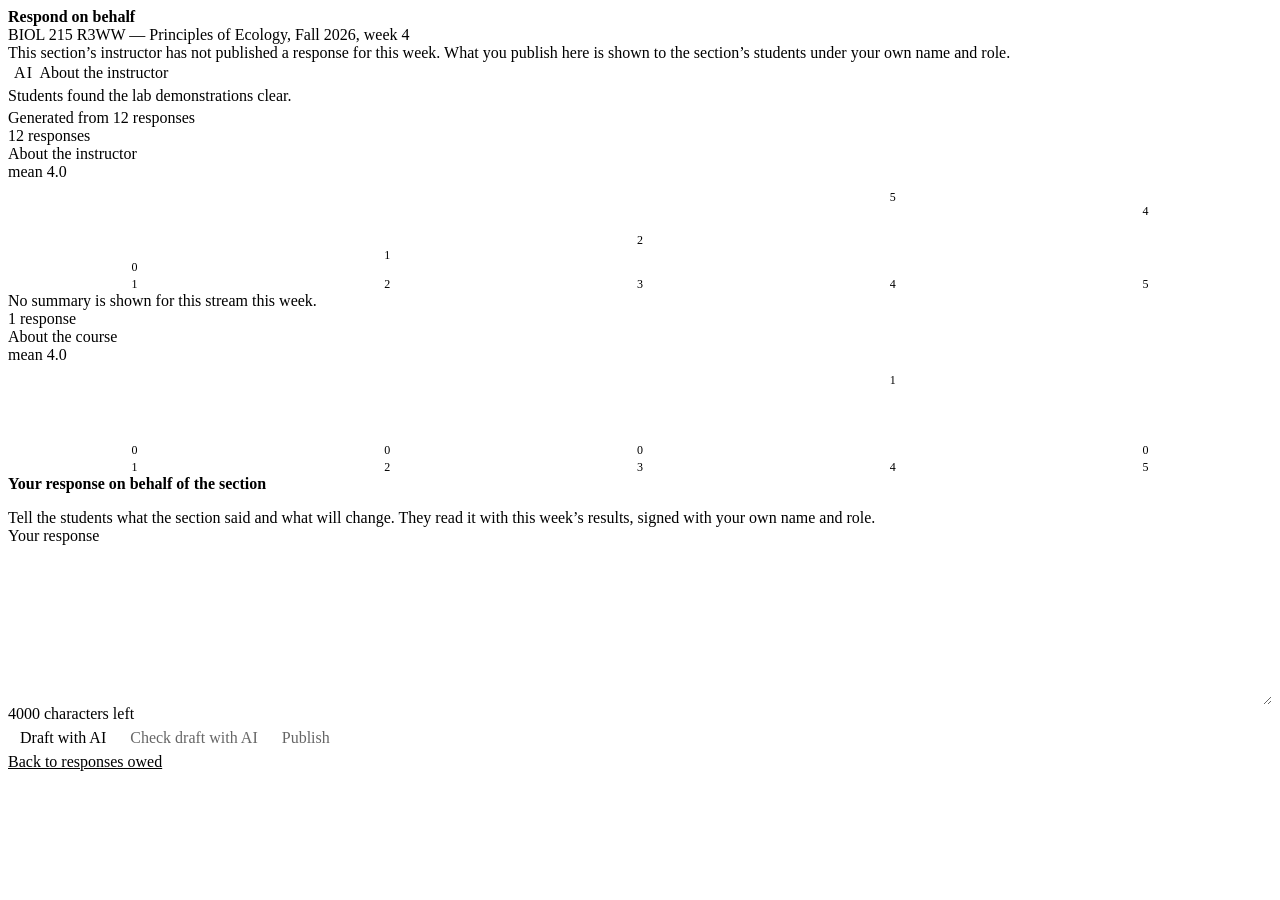
responding on behalf › draws the draft and the check from the on-behalf doors
Click the button "Draft with AI": x=63, y=738 [8,723,118,753]
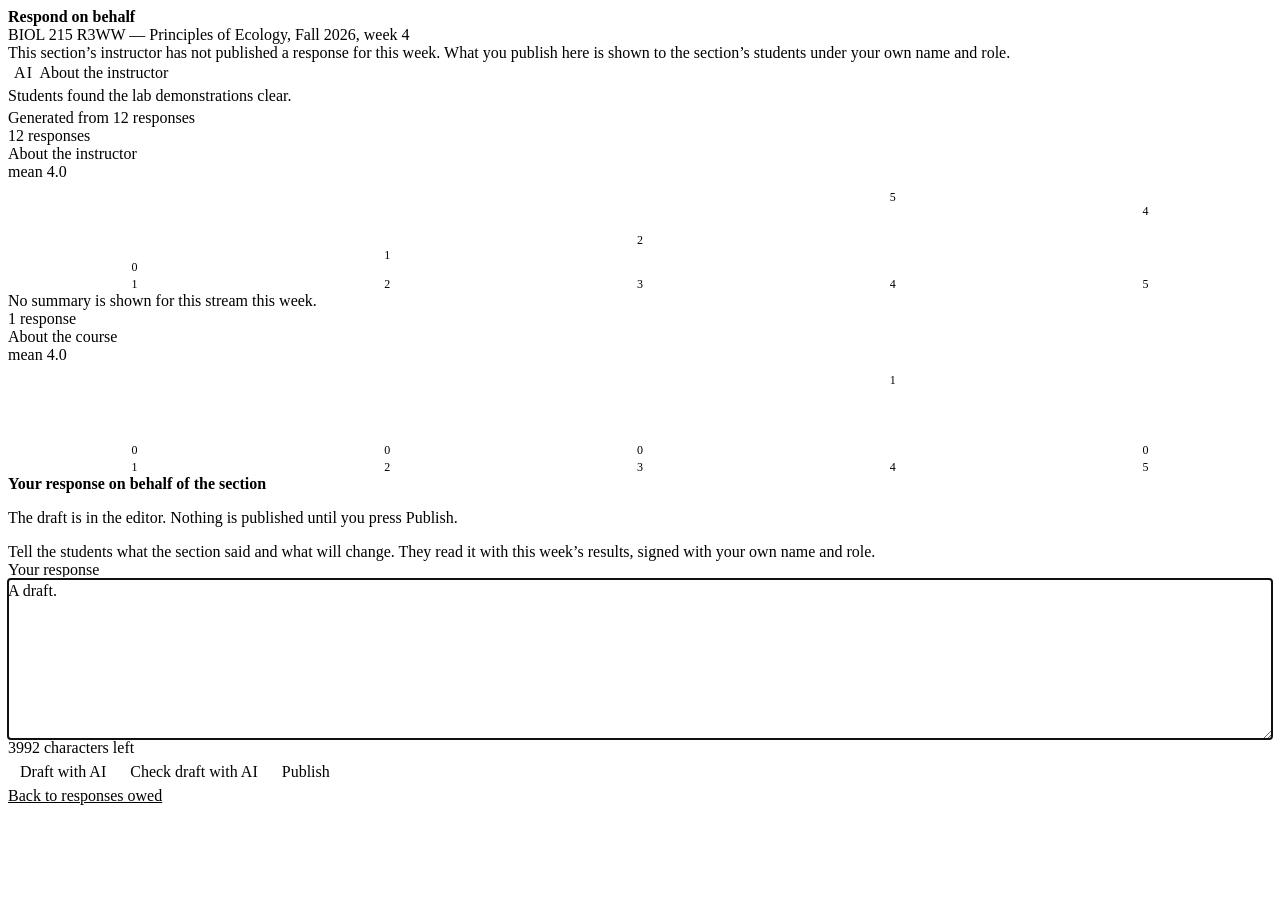
Expected: the text box holds "A draft.", [8,579,1272,739]
Click the button "Check draft with AI": x=194, y=772 [118,757,270,787]
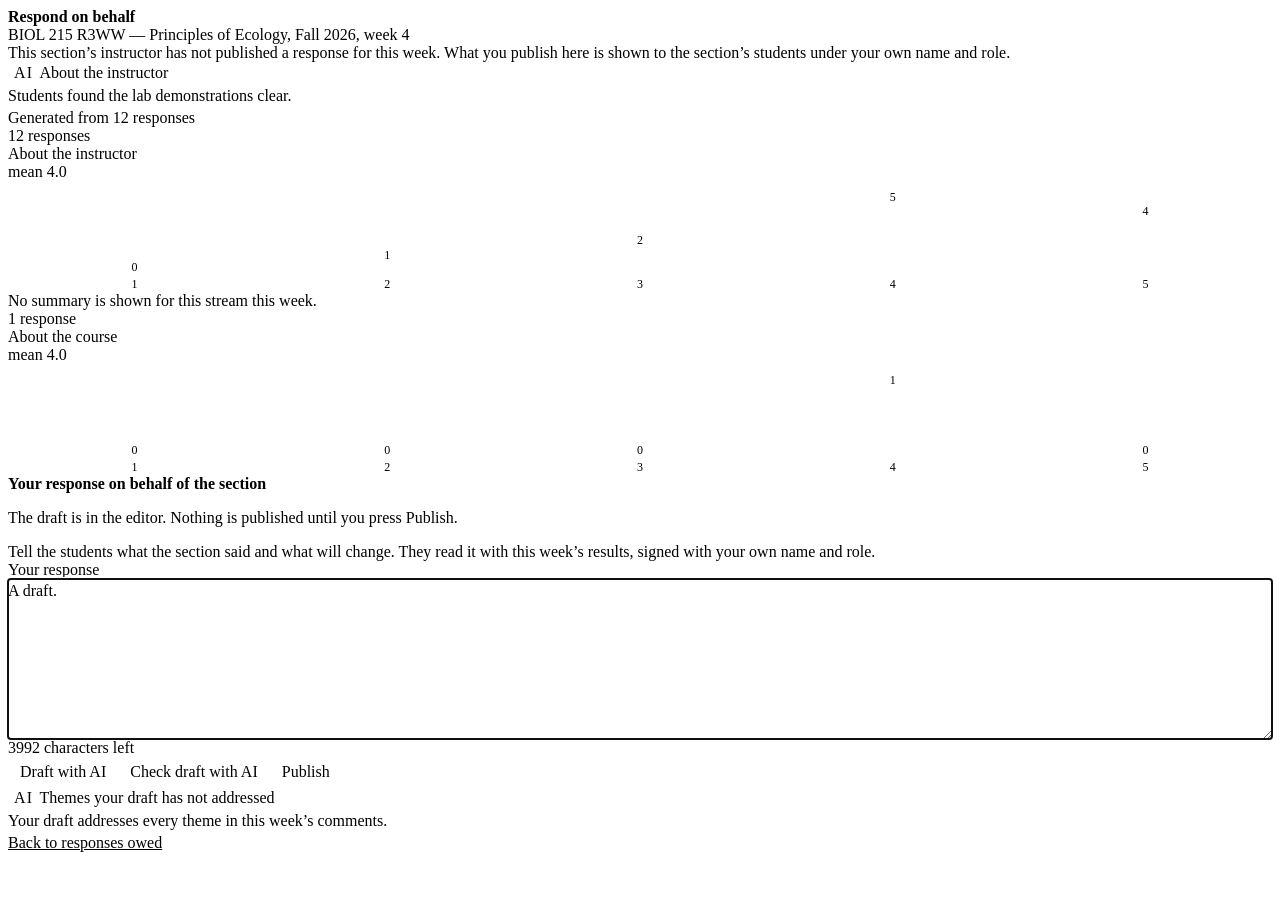
Expected: the text "Your draft addresses every theme in this week’s comments." is shown, [8,812,387,829]
